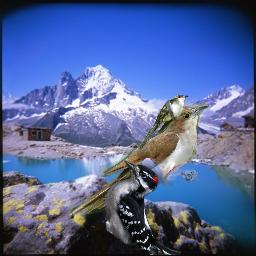Cuckoo: (67, 103, 209, 216), (138, 94, 188, 151)
Woodpecker: (102, 161, 181, 255)
